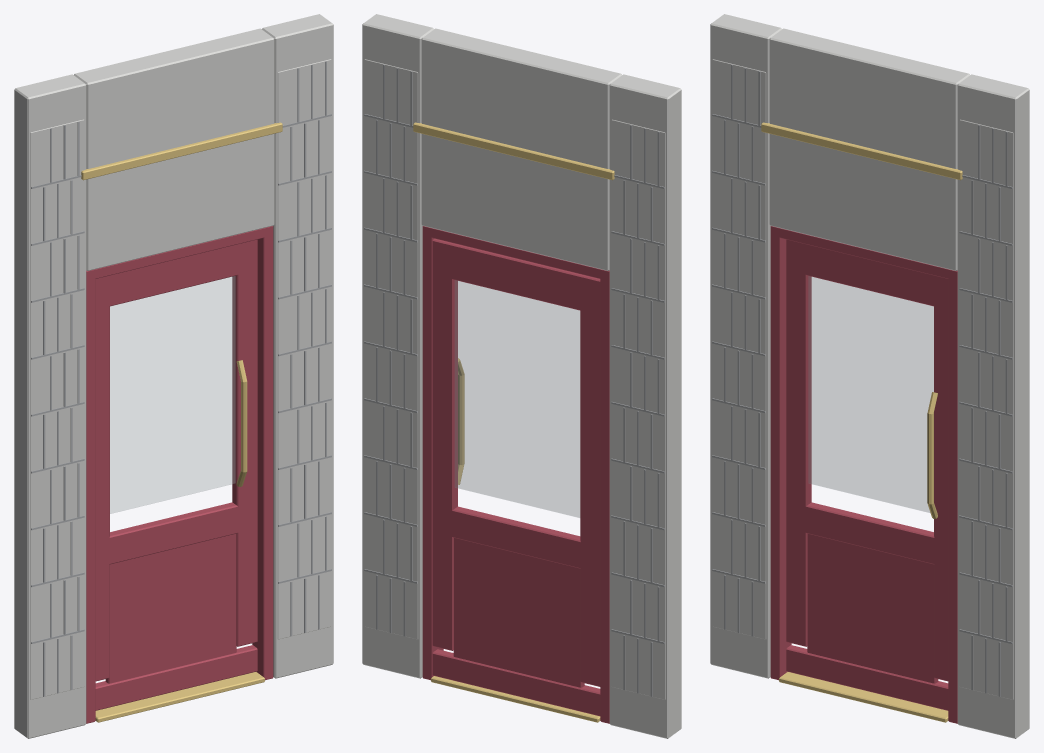
File: butchers-shop-and-deli-counter-shop-door-module-9facfc4a__34436.glb
3 views of the same model, side by side, from view 1: azimuth 30°, elevation 25°; view 2: azimuth 150°, elevation 25°; view 3: azimuth 330°, elevation 25° (orthographic).
Parts seen in each view (by area): view 1: shop-door-module, shop-door/accent, shop-door/glass, shop-door/brass; view 2: shop-door-module, shop-door/accent, shop-door/glass, shop-door/brass; view 3: shop-door-module, shop-door/accent, shop-door/glass, shop-door/brass.
Part boxes in pixels (x1,y1,x2,y2): shop-door-module: [14, 14, 333, 738]; shop-door/accent: [95, 239, 257, 710]; shop-door/glass: [110, 276, 235, 513]; shop-door/brass: [236, 360, 247, 486]; shop-door-module: [362, 14, 681, 738]; shop-door/accent: [432, 238, 600, 716]; shop-door/glass: [455, 280, 579, 517]; shop-door/brass: [458, 358, 464, 484]; shop-door-module: [710, 14, 1029, 738]; shop-door/accent: [786, 239, 948, 710]; shop-door/glass: [808, 276, 933, 512]; shop-door/brass: [927, 392, 937, 518].
Size of the model in its own units: 1.5 by 3 by 0.1539.
